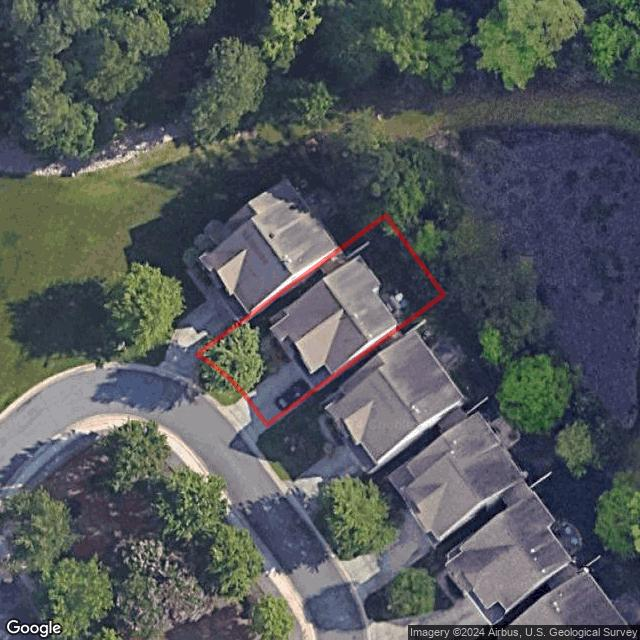Driveway: (248, 359, 335, 426)
Extra-Driveway: (227, 394, 269, 444)
Extra-Lawn: (194, 354, 244, 406)
House: (269, 254, 398, 376)
Lawn: (199, 216, 444, 426)
Other: (259, 330, 291, 385), (375, 285, 413, 324)
Sidewalk: (280, 337, 298, 363)
